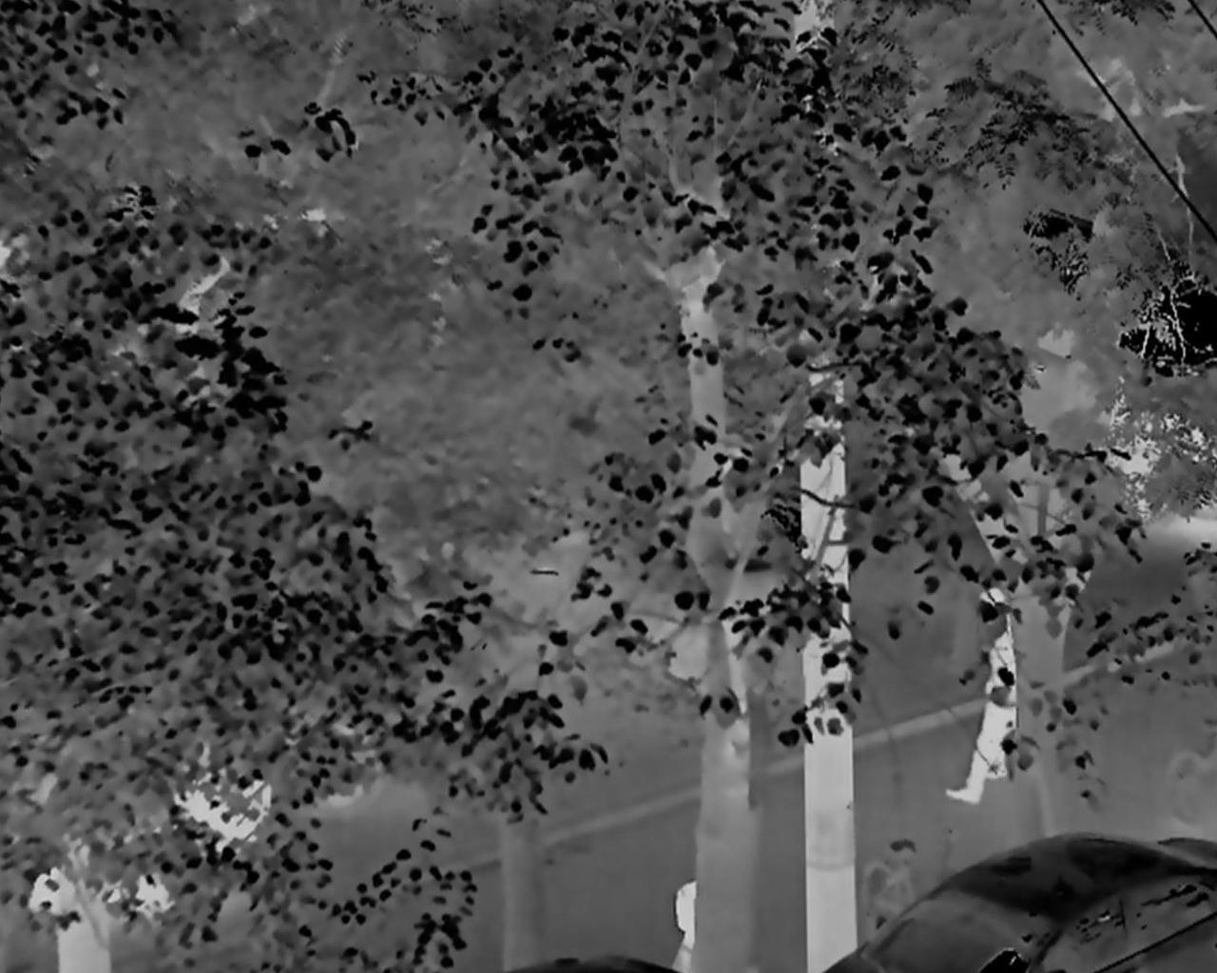person: (950, 590, 1016, 811)
